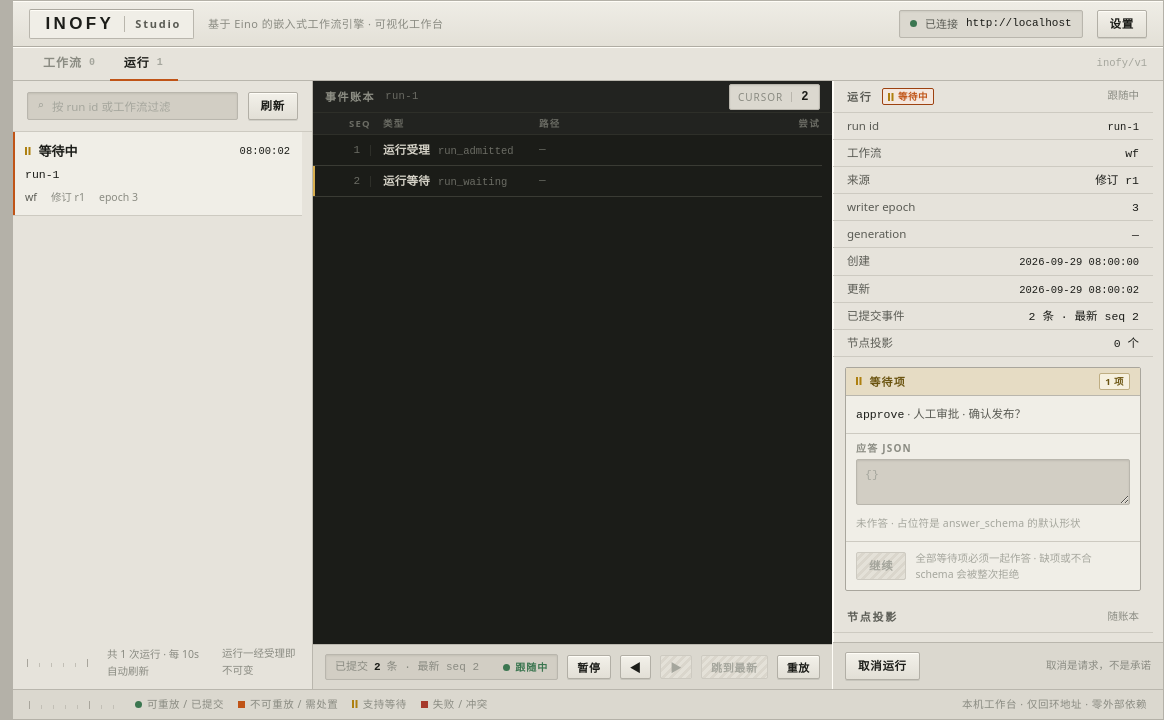
Test case: 运行中心 › 静默取消：账本不带终态事件，靠聚合状态定格，等待项转只读
The width and height of the screenshot is (1164, 720).
Expected: the text "approve · 人工审批 · 确认发布？" is shown, [846, 396, 1140, 434]
Expected: the element with class "live" reads "跟随中", [515, 660, 548, 674]
Click the button "取消运行" at (882, 666), box [845, 652, 920, 680]
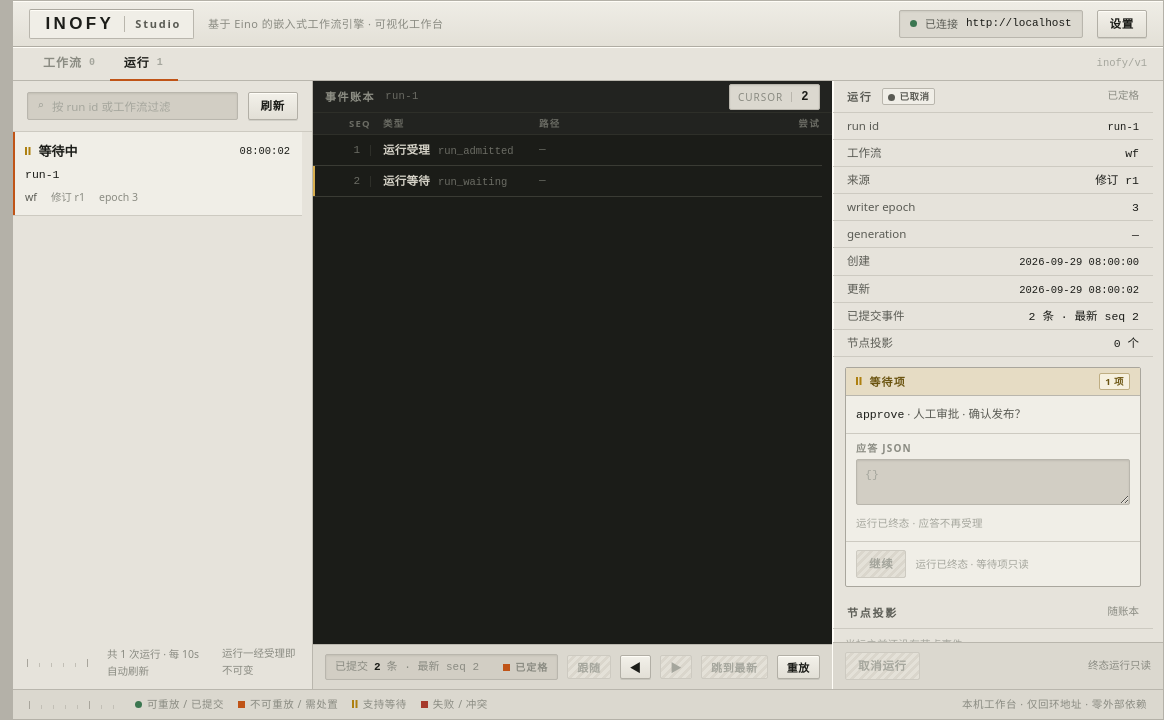
Now the element with class "live" reads "已定格", box [515, 660, 548, 674]
Now the element with class "tag" reads "已取消", box [900, 90, 929, 103]
Now the text "运行已终态 · 等待项只读" is shown, box [915, 556, 1029, 572]
